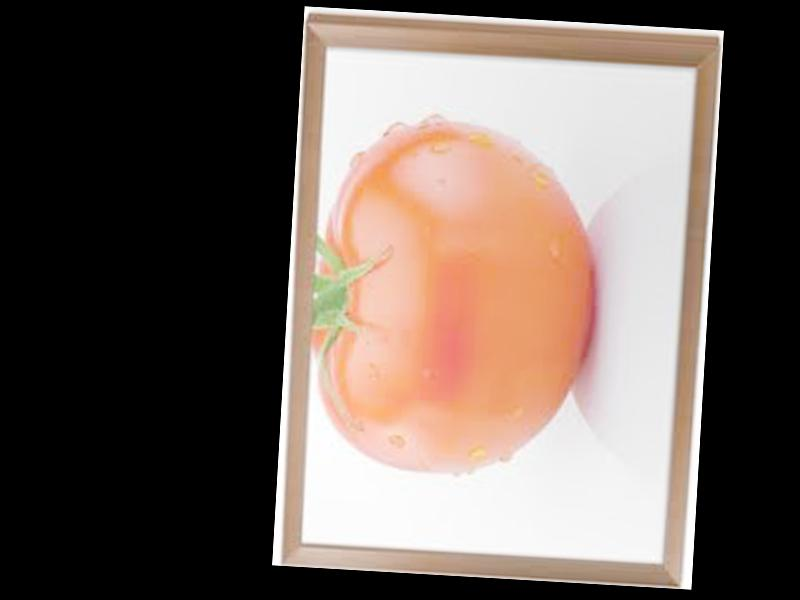Tomato: (302, 113, 604, 480)
